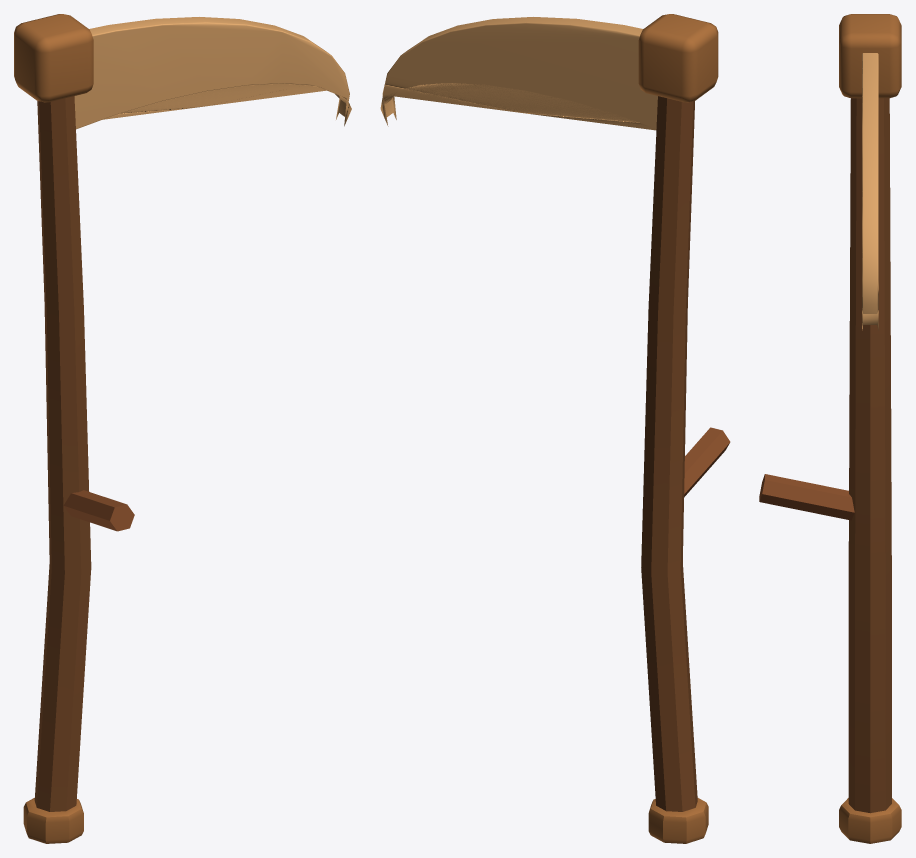
Rendered from WoodScythe.fbx.
The picture shows the model from 3 angles, left to right: view 1: azimuth 30°, elevation 25°; view 2: azimuth 150°, elevation 25°; view 3: azimuth 270°, elevation 25°; orthographic projection.
Visible parts, largest first — view 1: WoodScythe; view 2: WoodScythe; view 3: WoodScythe.
Part boxes in pixels (left/top/right/bottom): WoodScythe: left=14, top=14, right=351, bottom=843; WoodScythe: left=380, top=14, right=730, bottom=843; WoodScythe: left=759, top=14, right=901, bottom=843.
Size of the model in its own units: 1.56 by 3.72 by 0.5913.
Materials: 1 (1 with a texture image).
